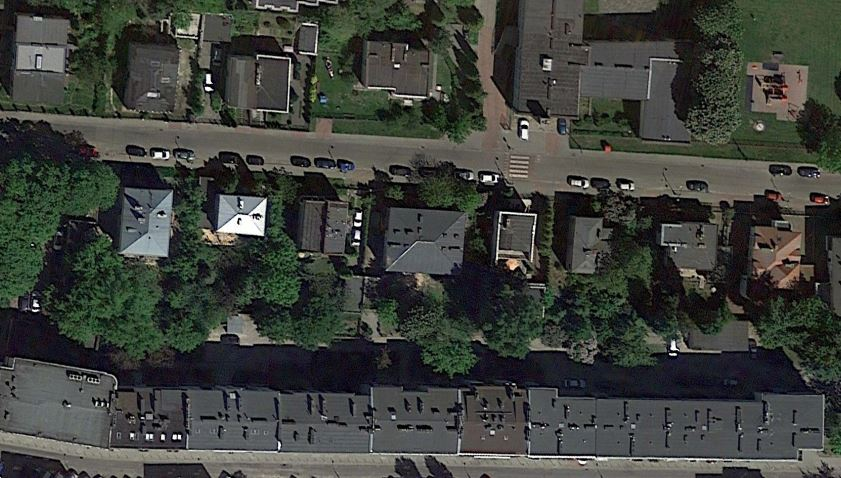block of flats: (1, 338, 835, 467)
family house: (376, 201, 481, 280), (110, 178, 182, 268), (350, 36, 442, 104), (223, 50, 297, 118), (122, 38, 183, 117), (740, 218, 805, 292), (656, 217, 726, 281), (567, 215, 626, 283), (11, 9, 69, 78), (295, 195, 355, 258), (210, 191, 273, 243), (489, 209, 543, 262)
shopping_center: (509, 1, 701, 147)
